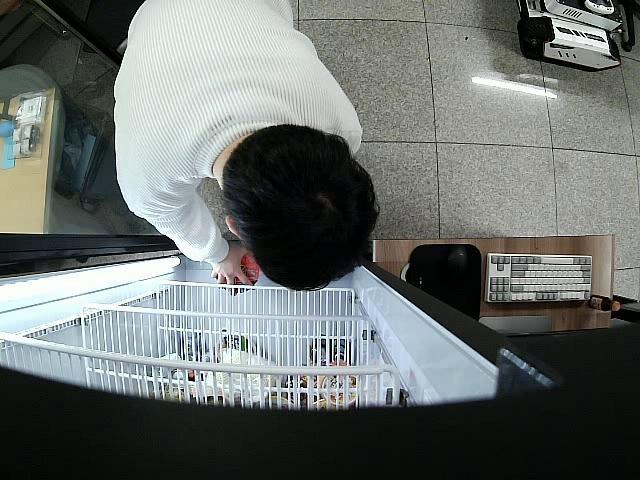01_ShinRamen_L: (217, 254, 258, 296)
